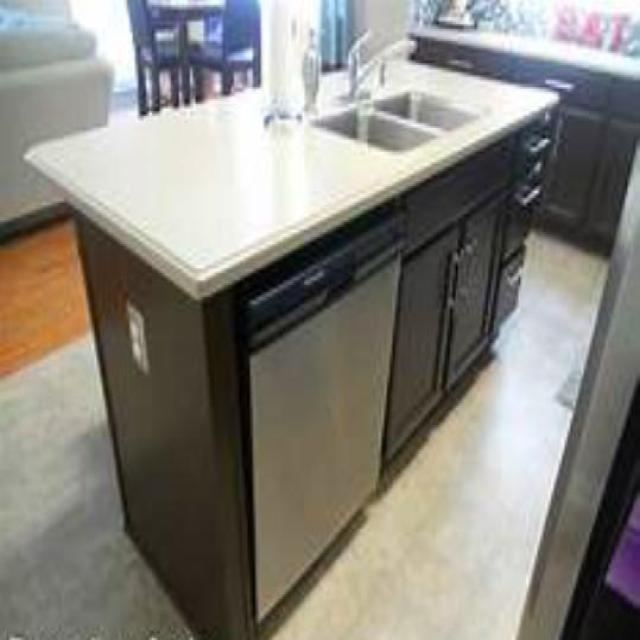dishwasher: (232, 263, 407, 619)
